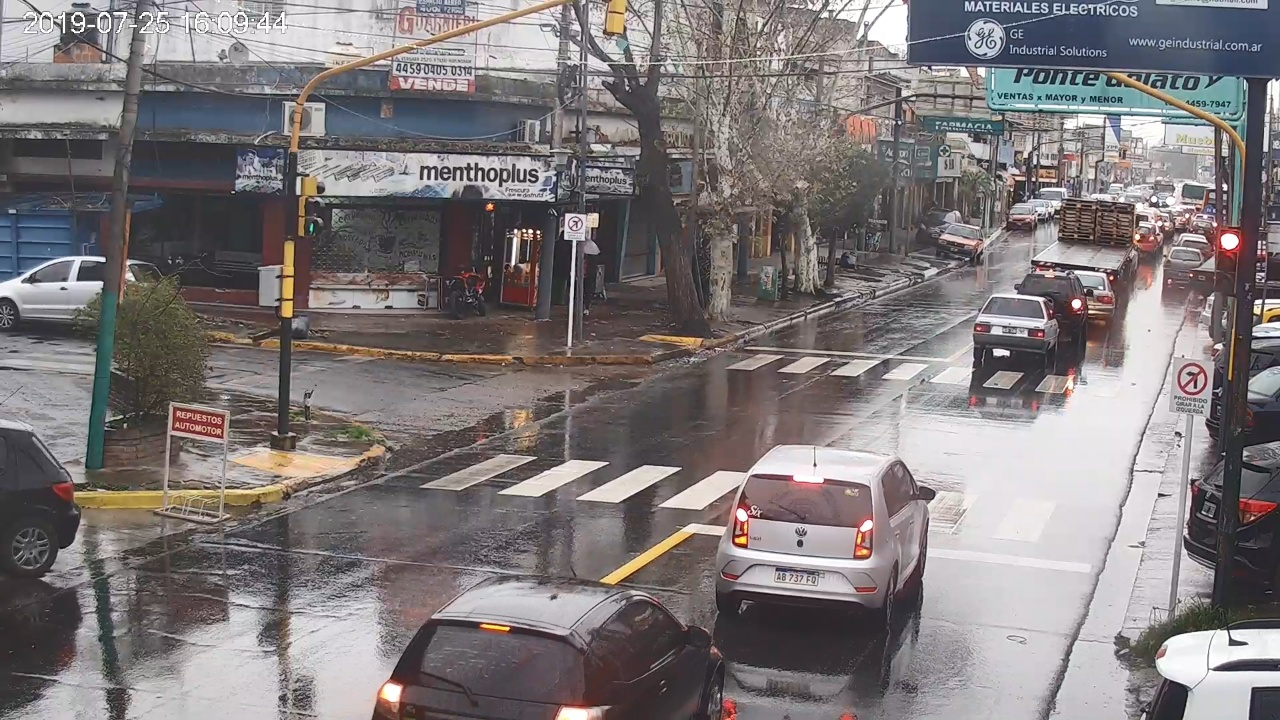car: (373, 576, 725, 720), (716, 444, 935, 625), (973, 294, 1061, 365)
traffic light: (1216, 227, 1240, 293)
